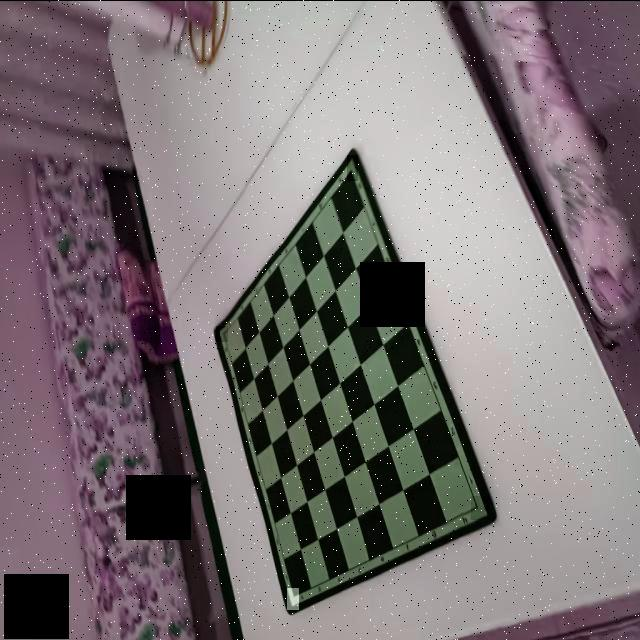chess-table-corners: (471, 495, 490, 519), (347, 154, 358, 180), (287, 587, 299, 609), (216, 325, 228, 341)
